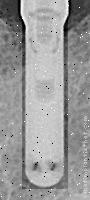Zimmer: (22, 0, 68, 189)
